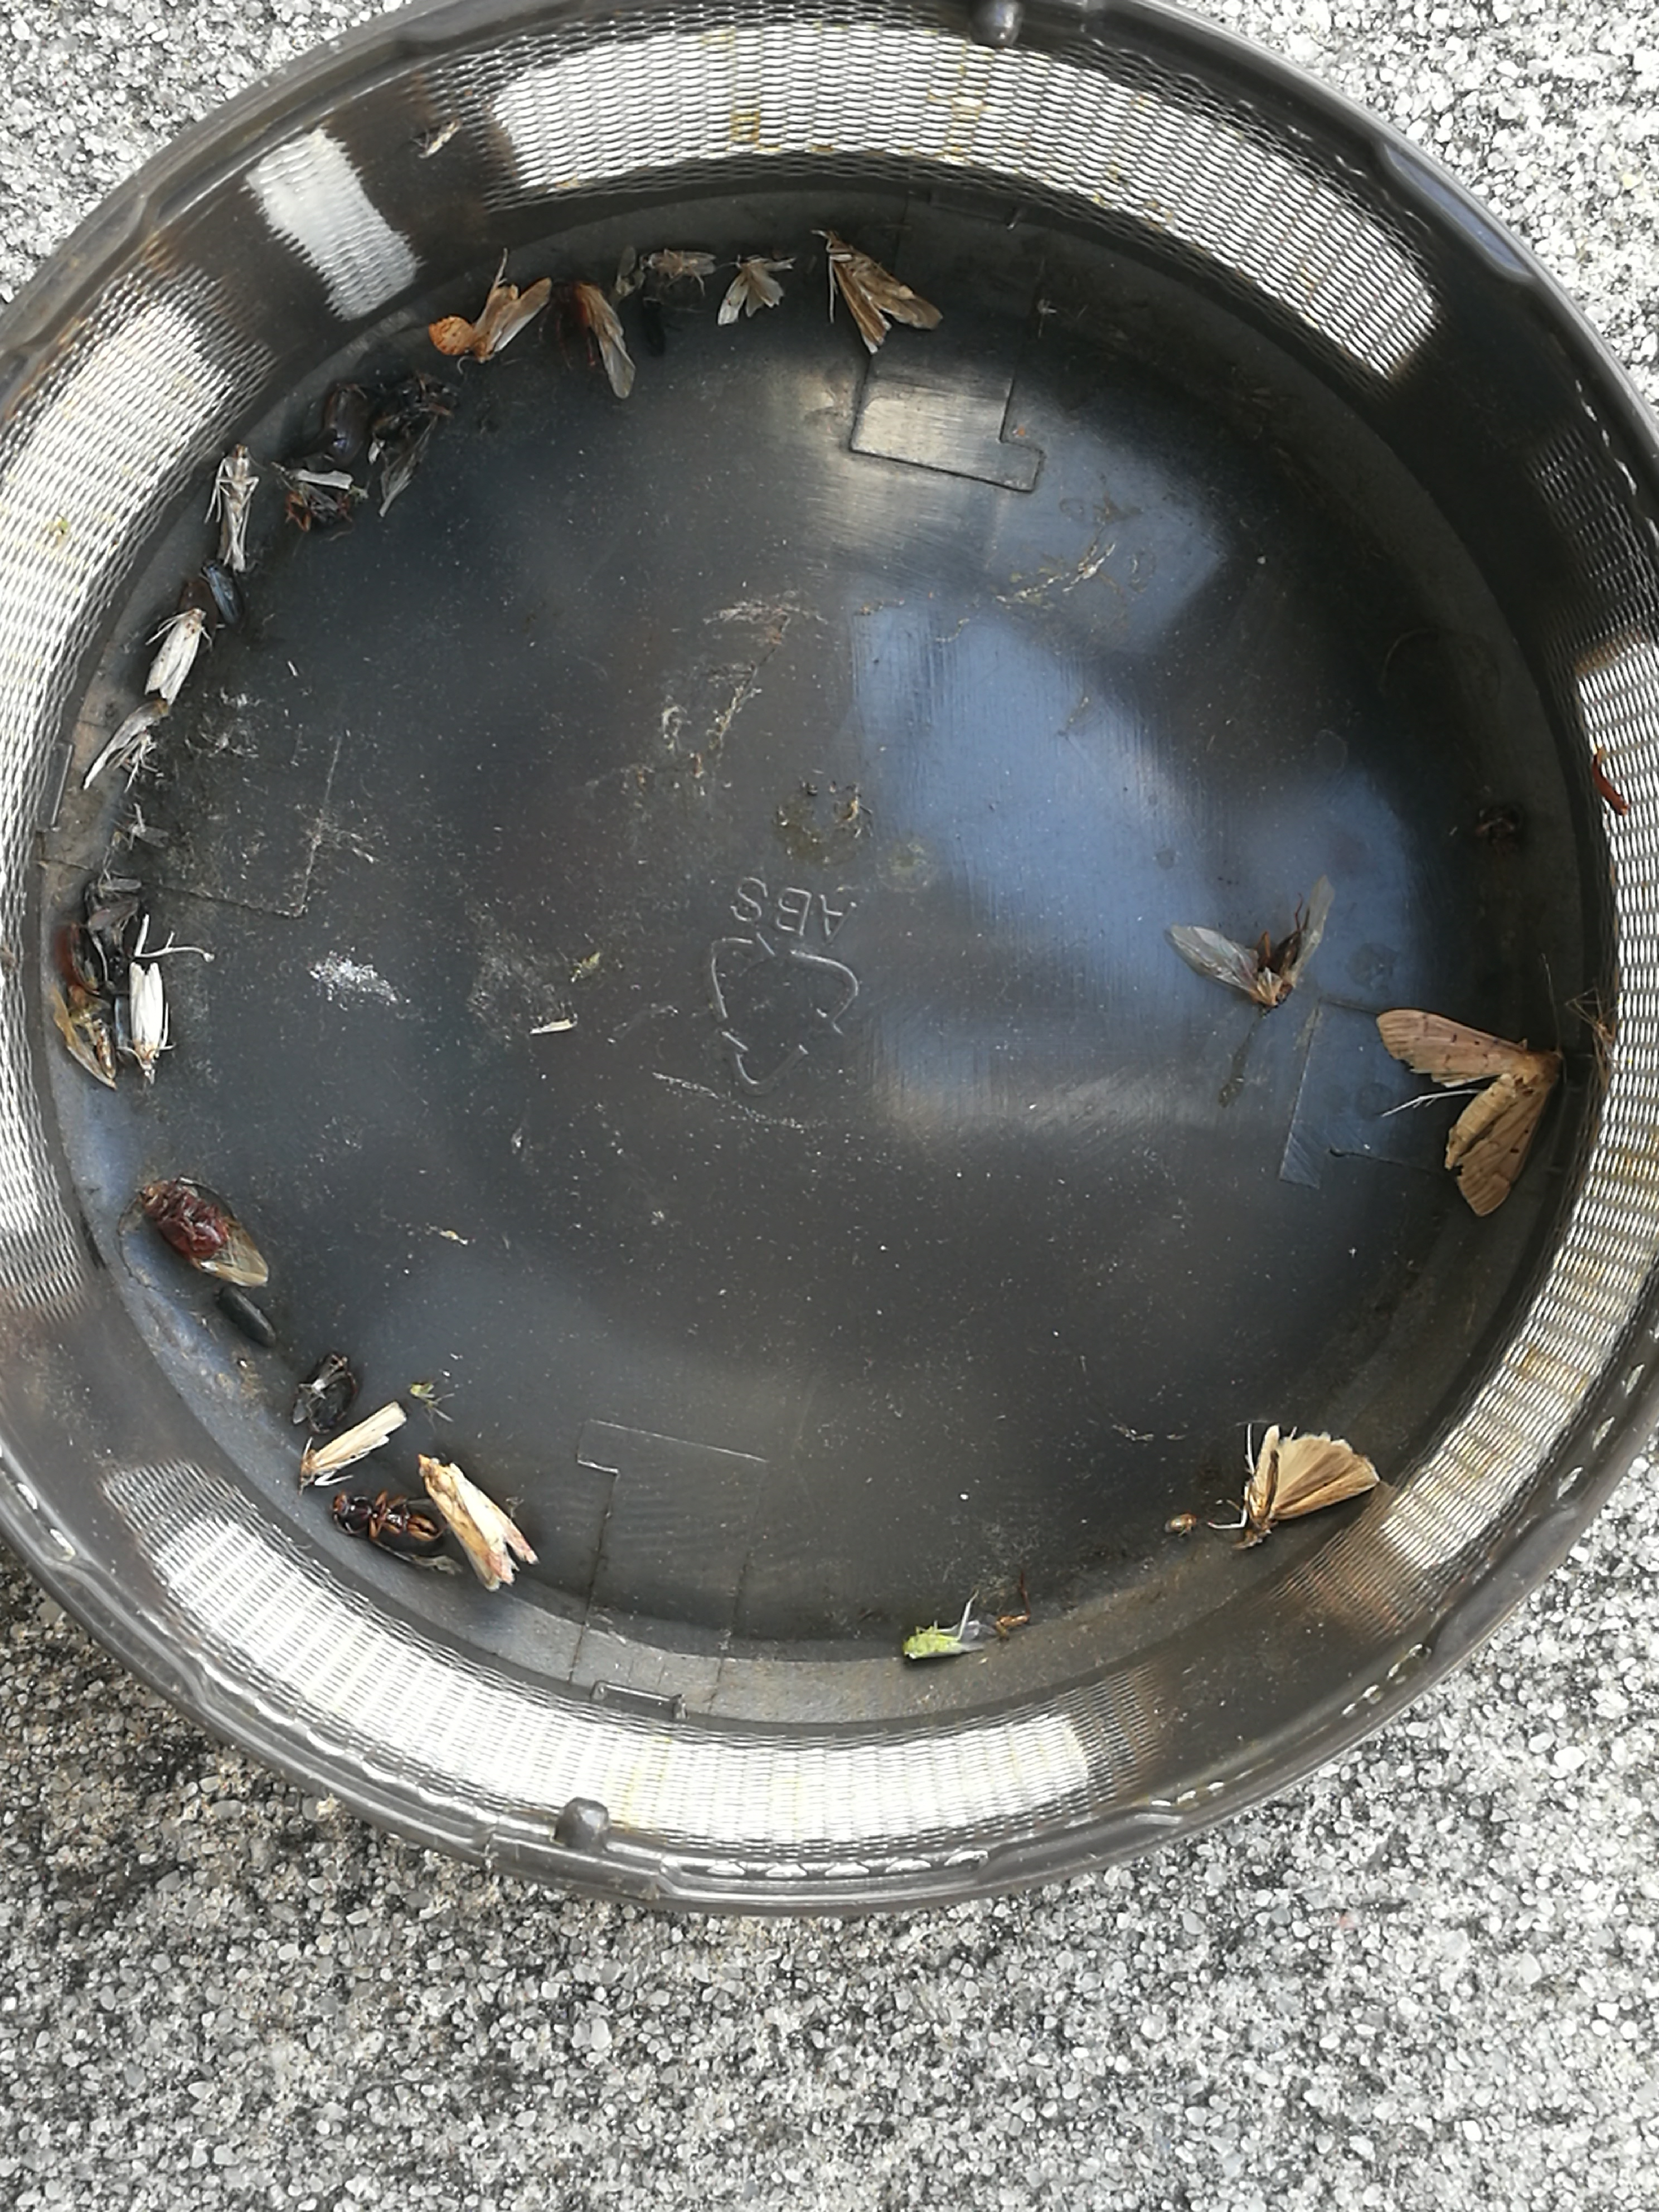beetle: (134, 1179, 223, 1258)
mosquito: (416, 1454, 537, 1590), (300, 1402, 408, 1480), (145, 610, 202, 700), (218, 444, 251, 568), (129, 961, 160, 1085), (640, 284, 666, 357), (645, 253, 714, 277)
moth: (1378, 1008, 1561, 1214), (1171, 876, 1333, 1008), (1230, 1425, 1377, 1552), (819, 228, 943, 355), (472, 277, 551, 364), (718, 256, 795, 326)
